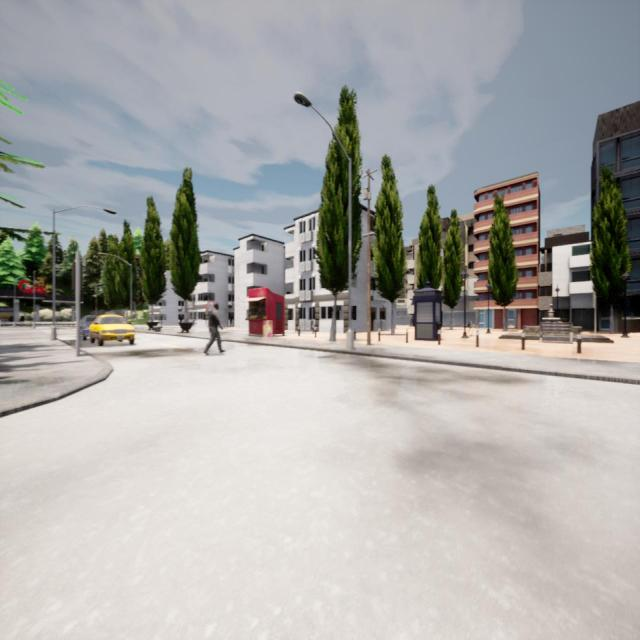Pedestrian: (204, 302, 224, 354)
Vehicle: (88, 314, 134, 346), (79, 314, 98, 342)
traffic_light: (71, 261, 76, 292)
